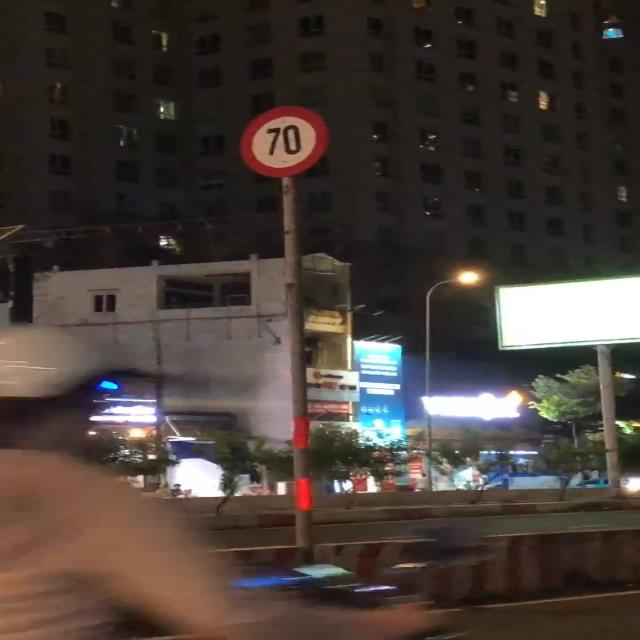Bien bao toc do toi da cho phep: (225, 100, 341, 178)
